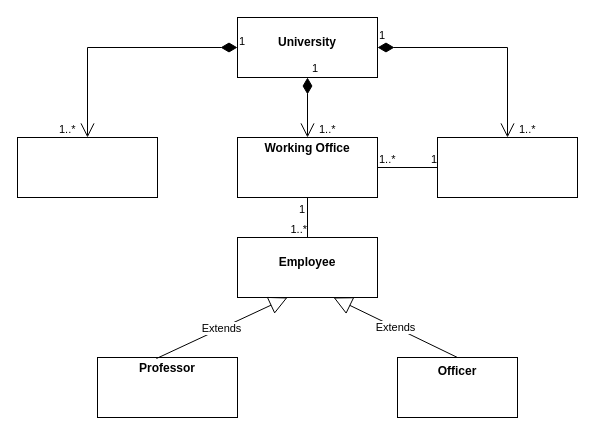
This 595x435 diagram has some shape labels left out. Each missing label, with the centre of its shape:
"Class" goes at (87,167).
"Department" goes at (507,167).
